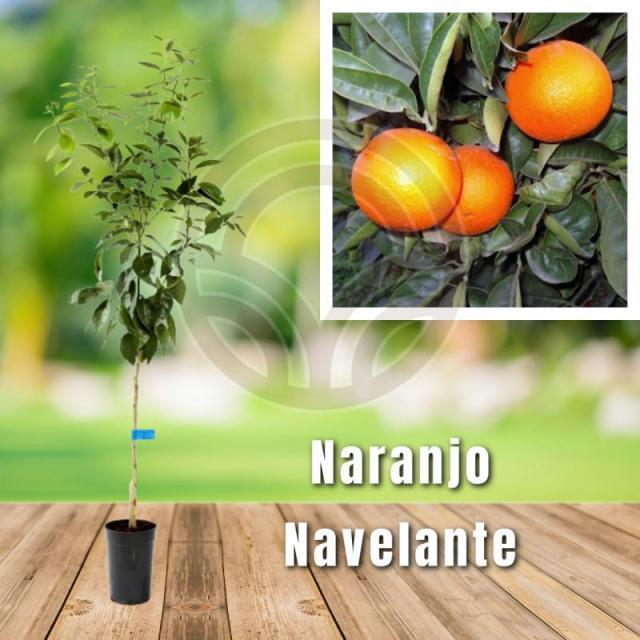Jeruk Sudah Matang: (350, 129, 462, 233), (504, 40, 613, 144), (442, 147, 516, 237)
